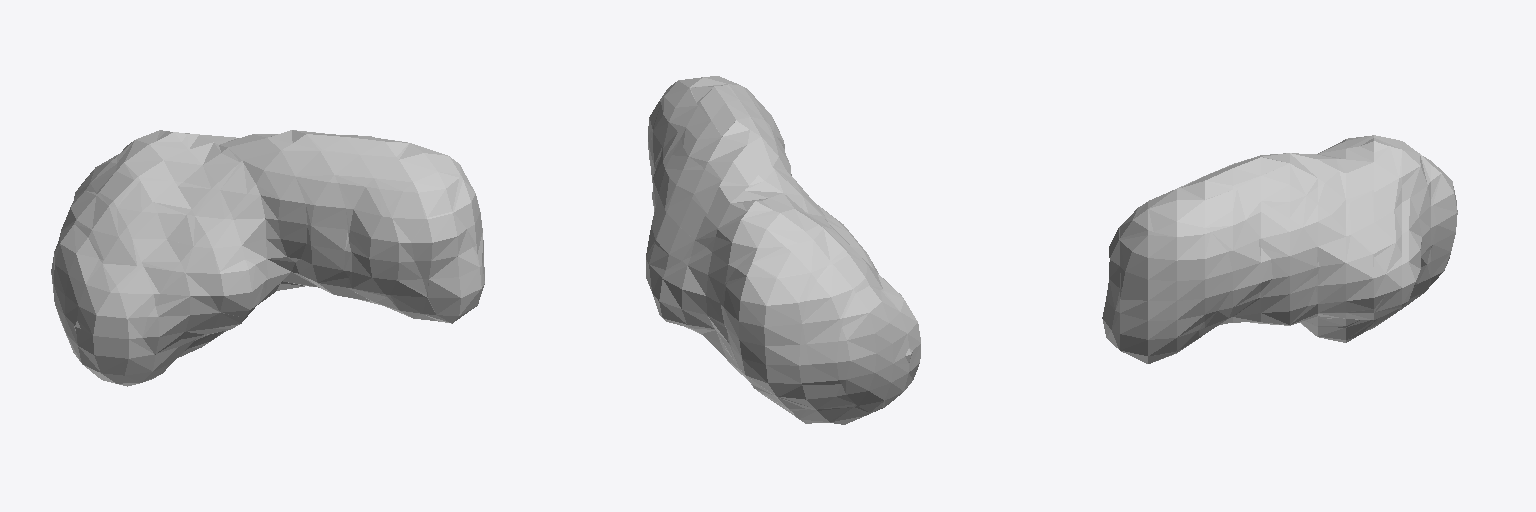
File: 1grj_cms.obj
3 renders of one model, left to right at view 1: azimuth 30°, elevation 25°; view 2: azimuth 150°, elevation 25°; view 3: azimuth 270°, elevation 25°, orthographic.
Size of the model in its own units: 69.79 by 49.39 by 66.19.